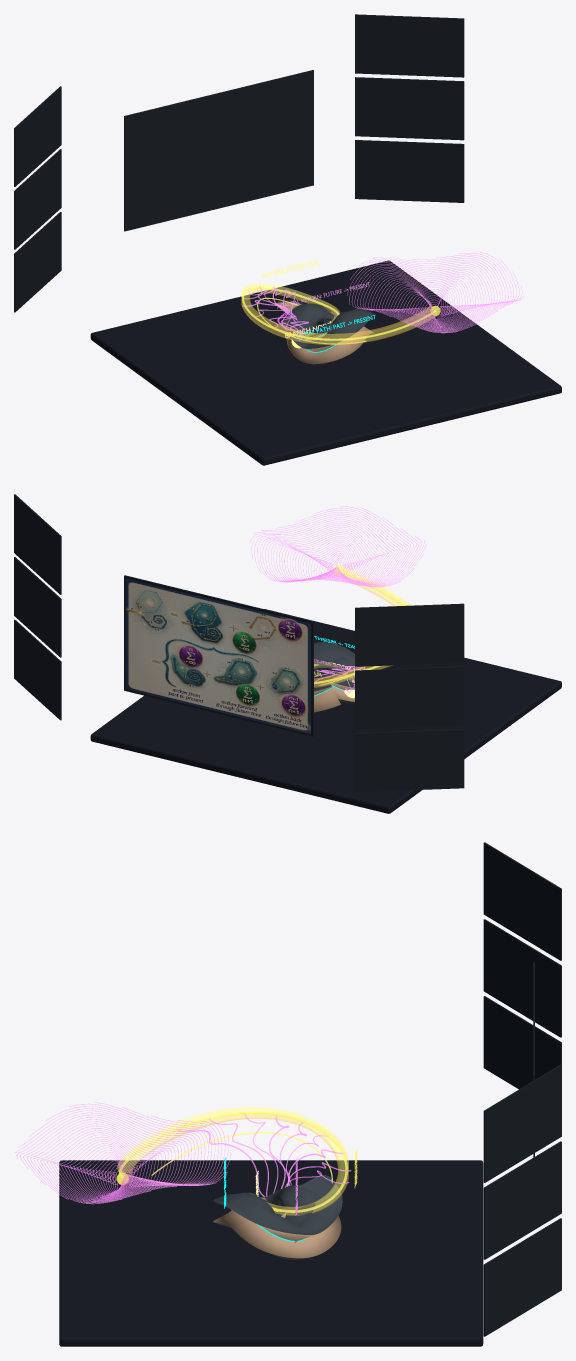
The model's file is janospira_v3_future_attractor_no_crystals.glb.
The picture shows the model from 3 angles, top to bottom: view 1: azimuth 30°, elevation 25°; view 2: azimuth 150°, elevation 25°; view 3: azimuth 270°, elevation 25°; orthographic projection. The views are drawn at different scales.
Parts seen in each view (by area): view 1: Gold_Future_Attractor.001, panel_0_hero_clockspring_thin_backing, panel_6_right_low_thin_backing, panel_4_right_top_thin_backing, panel_5_right_mid_thin_backing, Janospira_Actualized_Cutaway_Shell, Janospira_Ghost_Future_Potential_Shell, panel_2_left_mid_thin_backing, panel_3_left_low_thin_backing, panel_1_left_top_thin_backing, Gold_Future_Potential_Path_Present_To_Possibility; view 2: Gold_Future_Attractor.001, panel_0_hero_clockspring, panel_1_left_top_thin_backing, panel_2_left_mid_thin_backing, panel_3_left_low_thin_backing, panel_6_right_low_thin_backing, panel_4_right_top_thin_backing, panel_5_right_mid_thin_backing, Janospira_Actualized_Cutaway_Shell, panel_0_hero_clockspring_thin_backing, Janospira_Ghost_Future_Potential_Shell; view 3: Gold_Future_Attractor.001, Janospira_Actualized_Cutaway_Shell, panel_1_left_top_thin_backing, panel_5_right_mid_thin_backing, panel_4_right_top_thin_backing, panel_6_right_low_thin_backing, panel_2_left_mid_thin_backing, panel_3_left_low_thin_backing, Janospira_Ghost_Future_Potential_Shell, Gold_Future_Potential_Path_Present_To_Possibility.
Boxes of the visible parts, x1,y1,x2,y2 form: Gold_Future_Attractor.001: [90, 260, 561, 465]; panel_0_hero_clockspring_thin_backing: [124, 70, 313, 231]; panel_6_right_low_thin_backing: [355, 140, 464, 202]; panel_4_right_top_thin_backing: [355, 14, 464, 77]; panel_5_right_mid_thin_backing: [355, 77, 464, 140]; Janospira_Actualized_Cutaway_Shell: [273, 300, 373, 364]; Janospira_Ghost_Future_Potential_Shell: [241, 283, 437, 344]; panel_2_left_mid_thin_backing: [14, 149, 61, 249]; panel_3_left_low_thin_backing: [14, 212, 61, 312]; panel_1_left_top_thin_backing: [14, 86, 61, 186]; Gold_Future_Potential_Path_Present_To_Possibility: [242, 287, 435, 340]; Gold_Future_Attractor.001: [90, 609, 561, 813]; panel_0_hero_clockspring: [125, 578, 310, 734]; panel_1_left_top_thin_backing: [355, 603, 464, 666]; panel_2_left_mid_thin_backing: [355, 666, 464, 729]; panel_3_left_low_thin_backing: [355, 729, 464, 792]; panel_6_right_low_thin_backing: [14, 619, 61, 720]; panel_4_right_top_thin_backing: [14, 494, 61, 594]; panel_5_right_mid_thin_backing: [14, 557, 61, 657]; Janospira_Actualized_Cutaway_Shell: [314, 642, 365, 712]; panel_0_hero_clockspring_thin_backing: [124, 575, 313, 736]; Janospira_Ghost_Future_Potential_Shell: [314, 565, 412, 687]; Gold_Future_Attractor.001: [59, 1160, 483, 1346]; Janospira_Actualized_Cutaway_Shell: [213, 1175, 342, 1259]; panel_1_left_top_thin_backing: [483, 842, 561, 960]; panel_5_right_mid_thin_backing: [483, 1141, 561, 1259]; panel_4_right_top_thin_backing: [483, 1064, 561, 1182]; panel_6_right_low_thin_backing: [483, 1218, 561, 1336]; panel_2_left_mid_thin_backing: [483, 919, 561, 1037]; panel_3_left_low_thin_backing: [483, 996, 561, 1089]; Janospira_Ghost_Future_Potential_Shell: [117, 1107, 348, 1215]; Gold_Future_Potential_Path_Present_To_Possibility: [119, 1111, 347, 1212].
Size of the model in its own units: 11.26 by 5.49 by 9.69.
16 materials, 7 textured.
